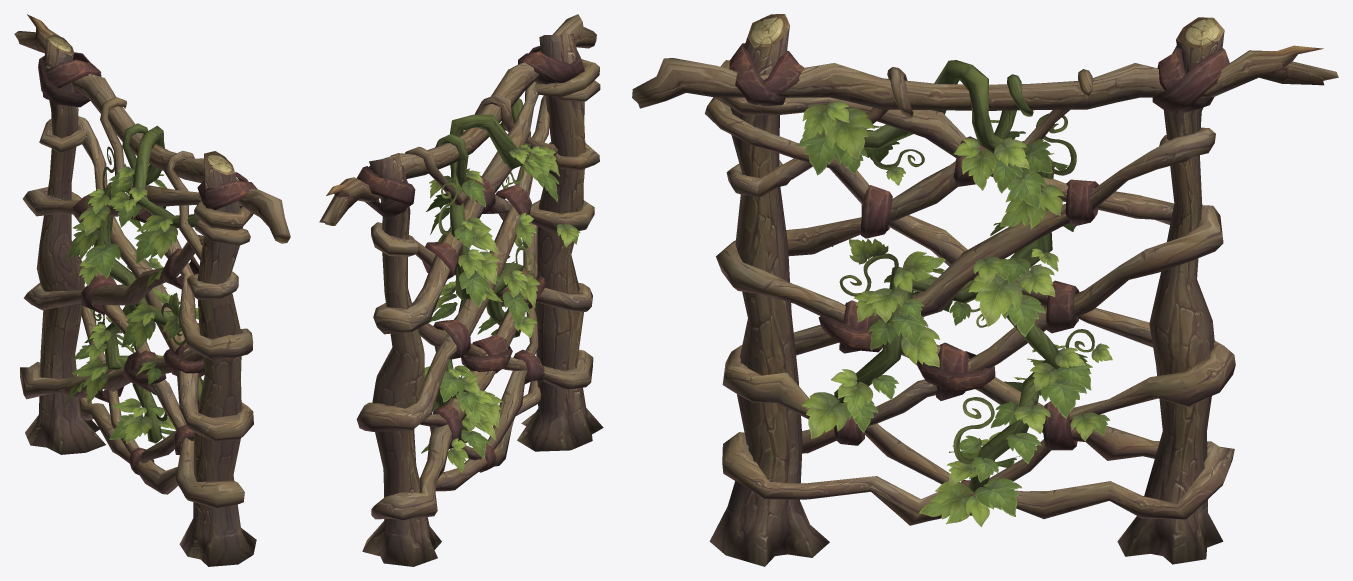
3 renders of one model, left to right at view 1: azimuth 30°, elevation 25°; view 2: azimuth 150°, elevation 25°; view 3: azimuth 270°, elevation 25°, orthographic. The views are drawn at different scales.
Bounding box in the file's own units: 0.9054 × 3.64 × 4.45.
Materials: 2 (2 with a texture image).
